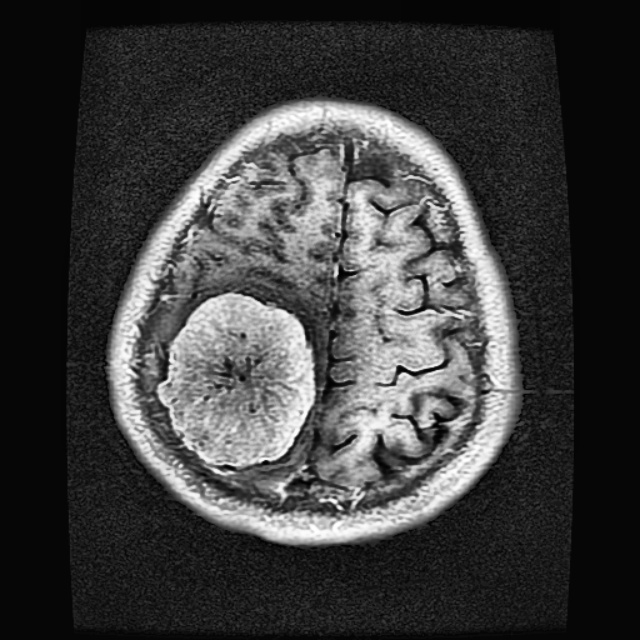Pituitary: (154, 290, 315, 467)
